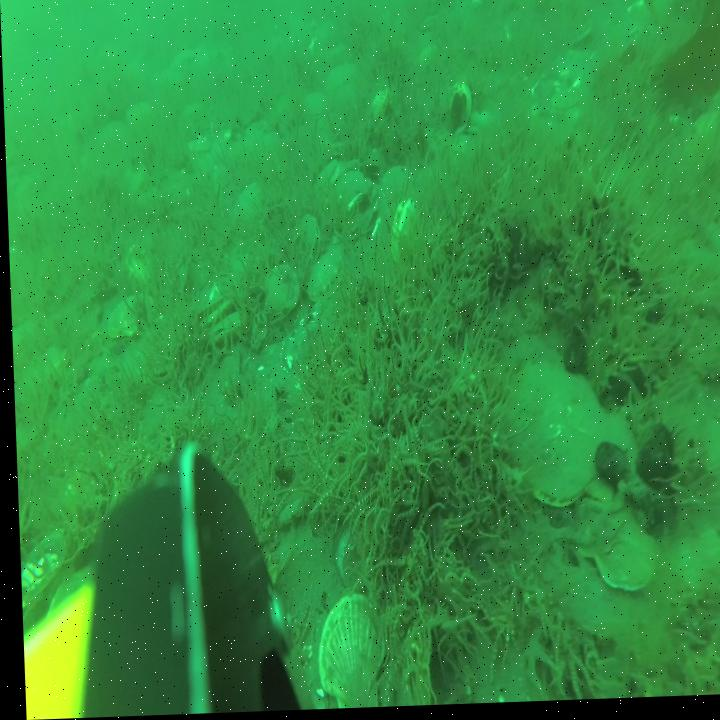holothurian: (682, 348, 720, 397)
scallop: (509, 365, 603, 520), (310, 598, 384, 711), (582, 419, 637, 513), (593, 514, 656, 594), (568, 475, 624, 555), (17, 531, 67, 602), (105, 291, 153, 344), (260, 271, 300, 327), (284, 220, 320, 276), (305, 246, 338, 303), (381, 163, 414, 215), (236, 183, 269, 229), (206, 313, 241, 356), (333, 173, 370, 213), (299, 87, 331, 127), (367, 86, 392, 132), (196, 297, 231, 329), (323, 61, 357, 90), (124, 96, 152, 131), (316, 161, 344, 191)
